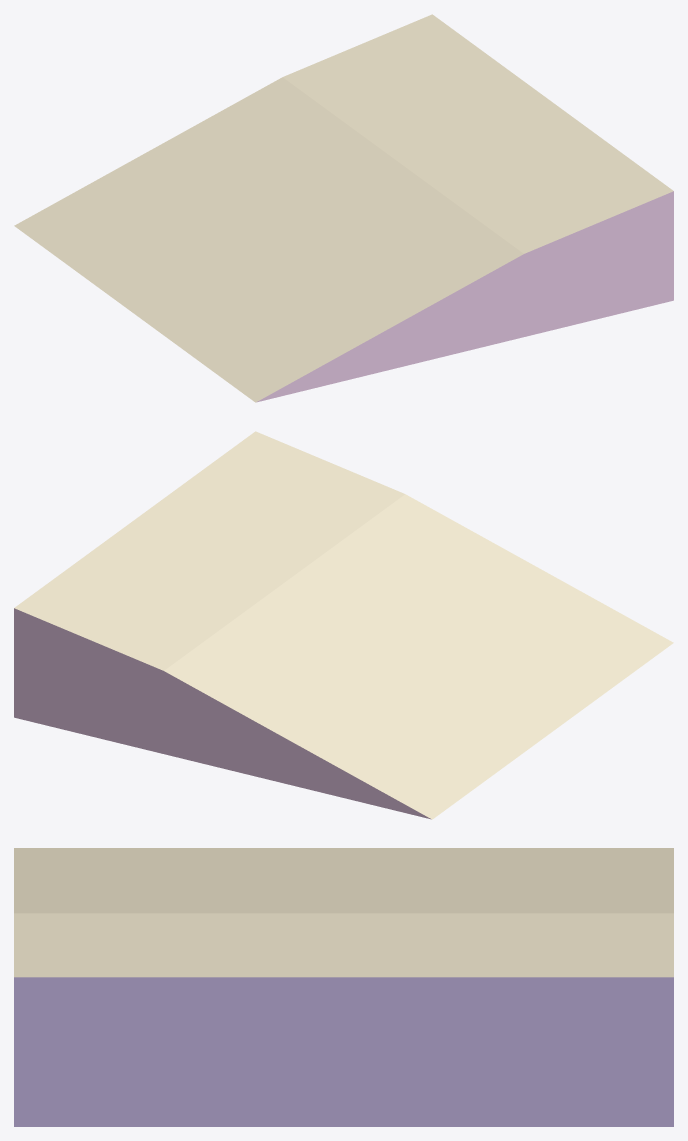
The model's file is Path_Terrain_Transition_Grass_Center_1x1.glb.
3 views of the same model, one above another, from view 1: azimuth 30°, elevation 25°; view 2: azimuth 150°, elevation 25°; view 3: azimuth 270°, elevation 25° (orthographic). The views are drawn at different scales.
Parts seen in each view (by area): view 1: Path_Terrain_Transition_Grass_Center_1x1; view 2: Path_Terrain_Transition_Grass_Center_1x1; view 3: Path_Terrain_Transition_Grass_Center_1x1.
Boxes of the visible parts, x1=… form: Path_Terrain_Transition_Grass_Center_1x1: x1=14, y1=14, x2=673, y2=402; Path_Terrain_Transition_Grass_Center_1x1: x1=14, y1=431, x2=673, y2=819; Path_Terrain_Transition_Grass_Center_1x1: x1=14, y1=848, x2=673, y2=1126.
Size of the model in its own units: 100 by 25 by 100.
